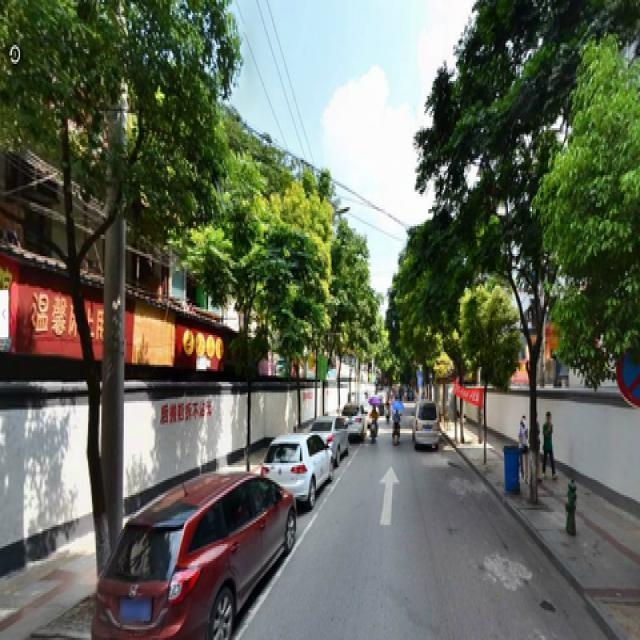koel: (219, 175, 313, 452)
